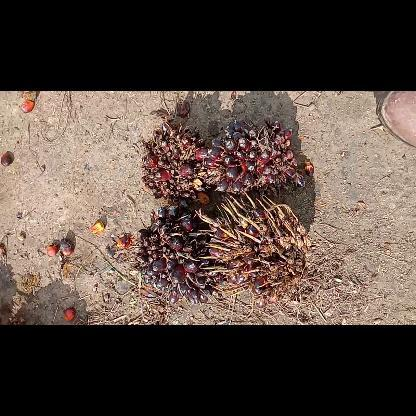TBS abnormal: (196, 191, 308, 307), (135, 205, 223, 303), (202, 121, 304, 196), (140, 122, 208, 200)
